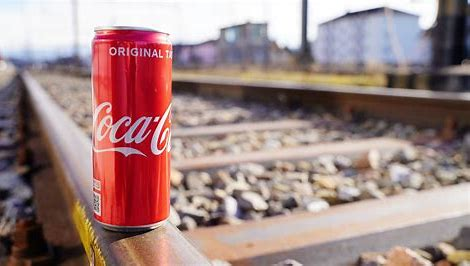Coke: (88, 24, 176, 233)
